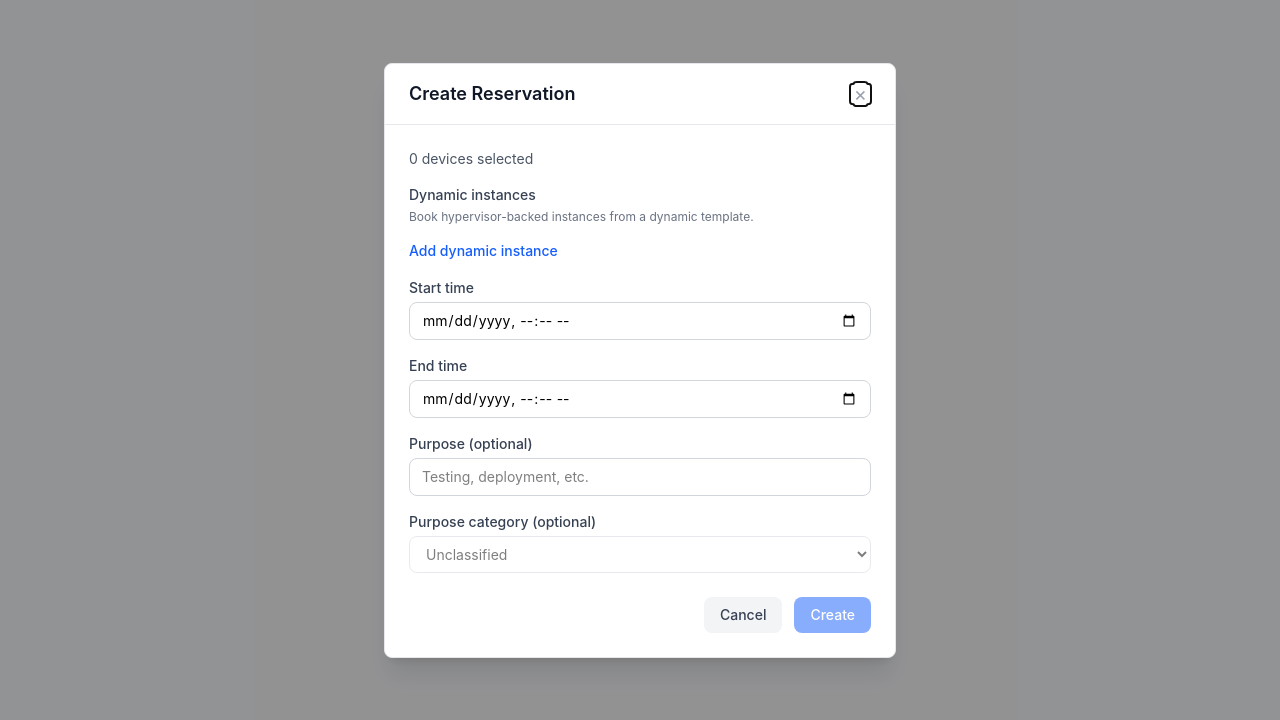
CreateReservationModal › disables Create when there are no devices and no dynamic requests
Check: the button "Create" is disabled, box [794,596,871,632]
Click the button "Add dynamic instance".
click(483, 250)  # box [409,240,558,260]
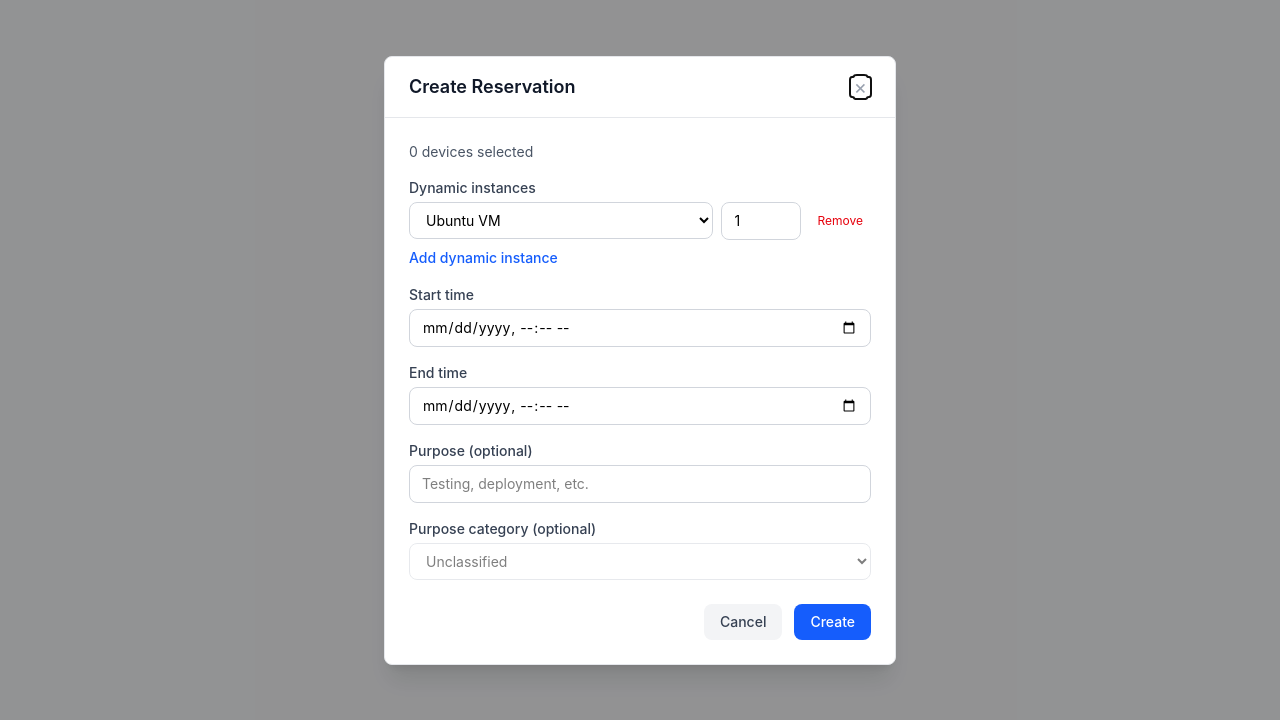
Check: the button "Create" is enabled, box [794,604,871,640]
Click the button with aria-label "Remove dynamic request 1".
click(840, 220)  # box [810,208,871,232]
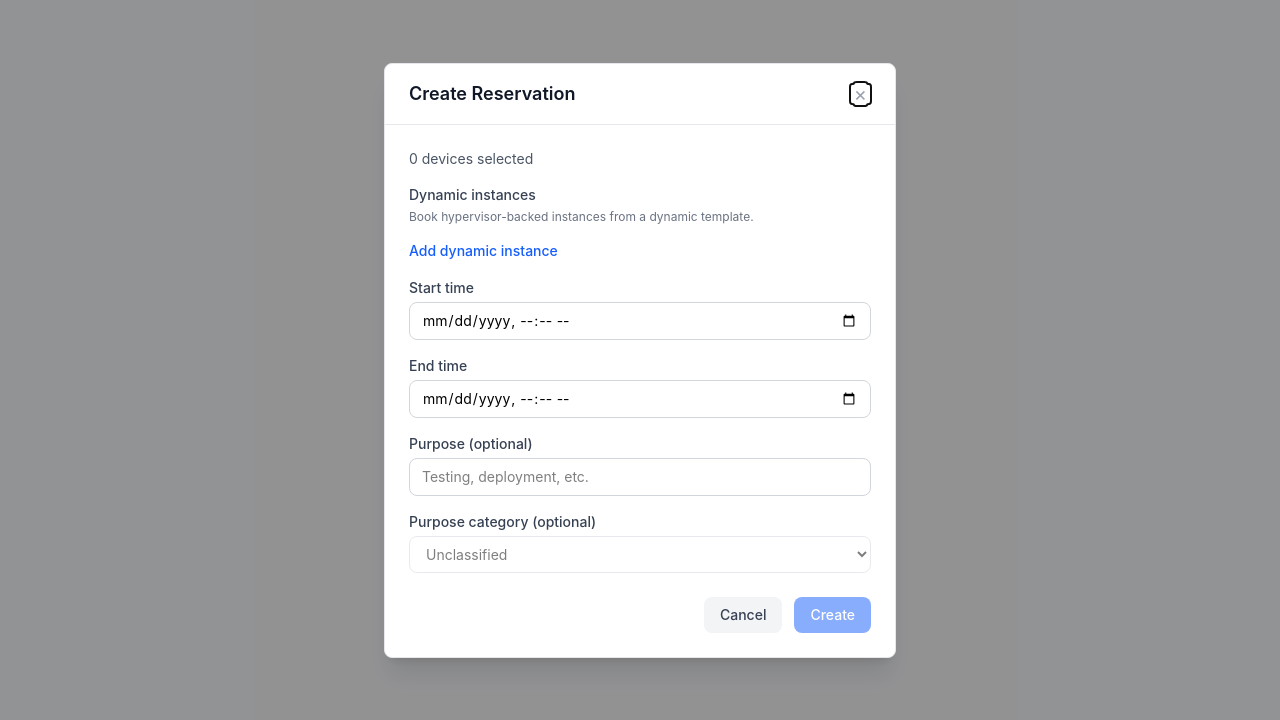
Check: the button "Create" is disabled, box [794,596,871,632]
